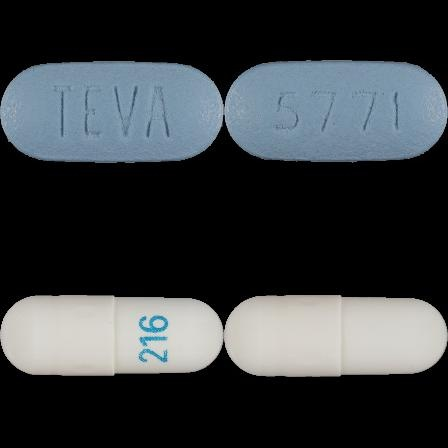61786-530: (0, 0, 224, 224)
